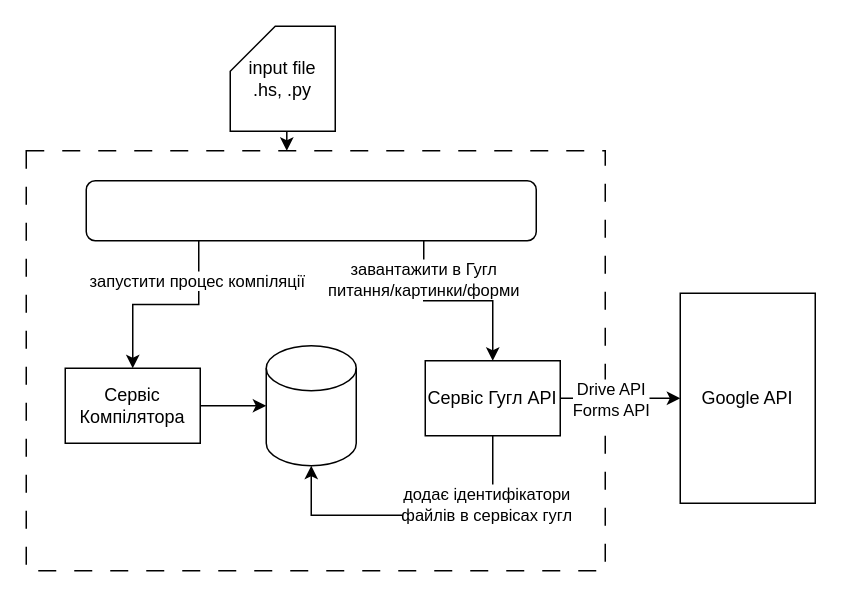
Image size: 842x597. Some labels were removed from this diagram. The centre of each missing label's shape, as x and y in pixels:
Консольний клієнт: the point at 310,210
Стан: the point at 310,405
